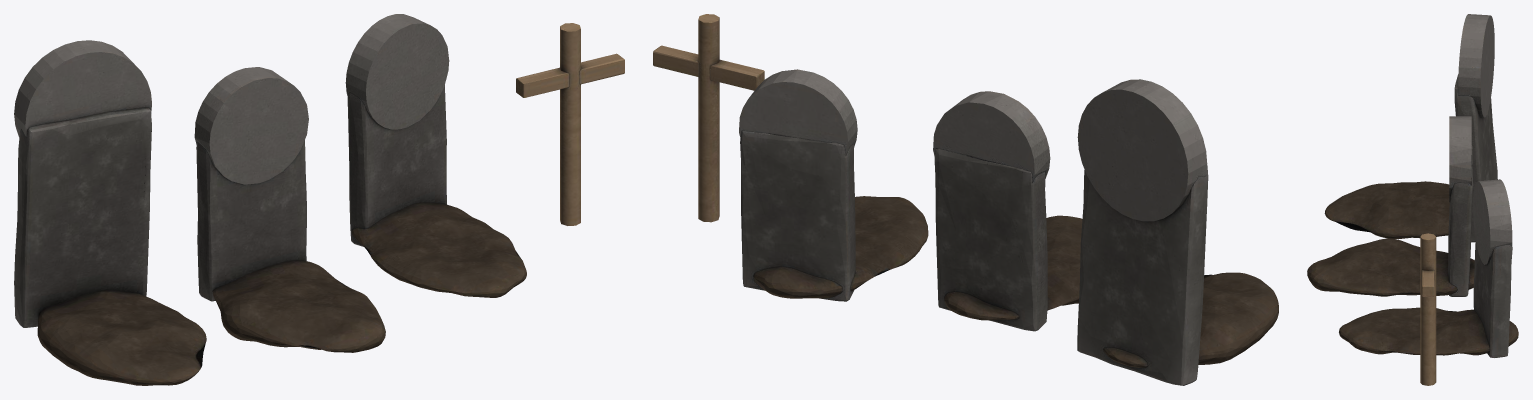
The model's file is dg_lapides.glb.
3 renders of one model, left to right at view 1: azimuth 30°, elevation 25°; view 2: azimuth 150°, elevation 25°; view 3: azimuth 270°, elevation 25°, orthographic. The views are drawn at different scales.
Parts seen in each view (by area): view 1: dg_lapides_tronco; view 2: dg_lapides_tronco; view 3: dg_lapides_tronco.
Boxes of the visible parts, box(x1,y1,x2,y2) form: dg_lapides_tronco: box(14, 14, 624, 385); dg_lapides_tronco: box(653, 14, 1278, 385); dg_lapides_tronco: box(1307, 14, 1518, 385).
Bounding box in the file's own units: 3.1 × 1.42 × 1.32.
1 material, 1 textured.
